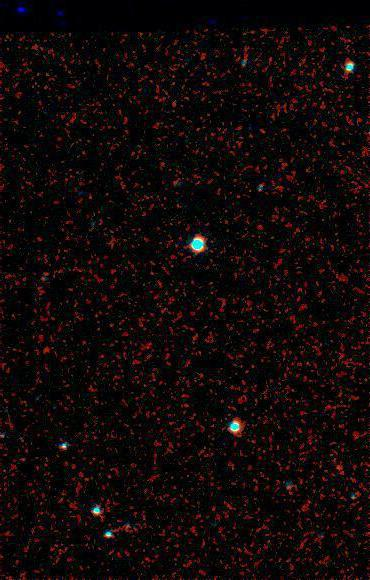star: (323, 454, 353, 484)
